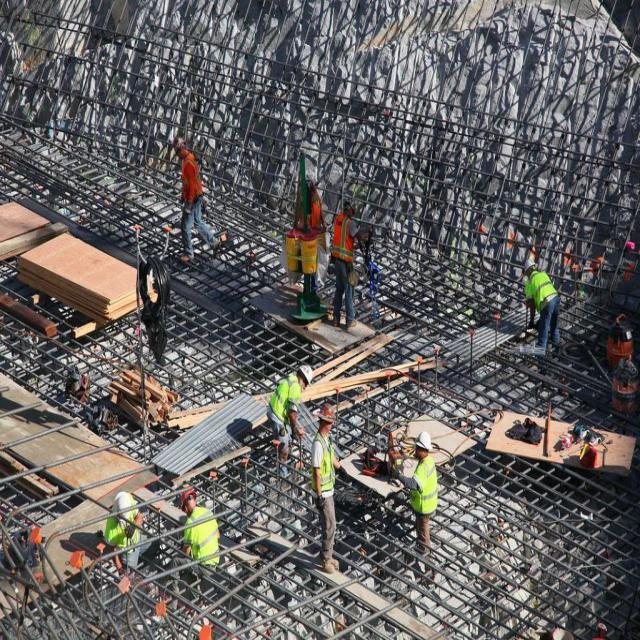Vest: (184, 503, 222, 574), (406, 457, 442, 520), (520, 264, 562, 315), (100, 509, 144, 557), (311, 428, 338, 505), (268, 370, 302, 426), (178, 152, 206, 206), (329, 208, 356, 262)
